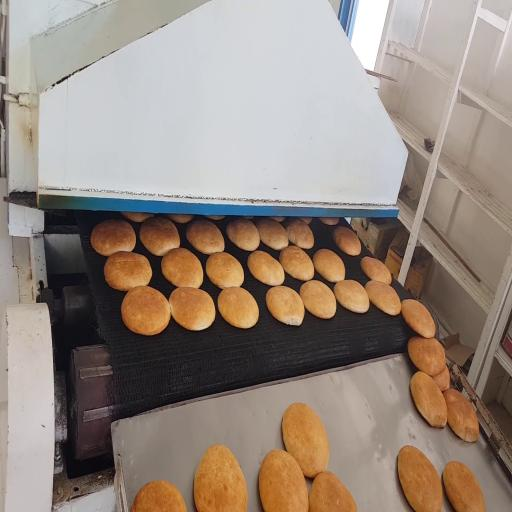bread: (194, 445, 247, 511), (282, 403, 329, 477), (259, 450, 308, 511), (398, 446, 442, 511), (122, 286, 170, 335), (443, 461, 485, 511), (410, 372, 447, 427), (169, 287, 215, 330), (443, 389, 479, 442), (104, 252, 152, 291), (309, 472, 357, 511), (130, 480, 186, 511), (218, 287, 258, 328), (91, 220, 136, 256), (162, 248, 203, 287), (139, 217, 180, 256), (266, 286, 304, 325), (408, 337, 445, 376), (300, 280, 336, 319), (206, 252, 243, 288), (186, 220, 224, 254), (402, 299, 435, 338), (279, 246, 314, 281), (365, 281, 401, 315), (248, 251, 284, 285), (334, 280, 369, 313), (226, 219, 259, 251), (313, 249, 345, 282), (256, 218, 288, 250), (286, 218, 314, 249), (361, 256, 391, 284), (332, 227, 361, 255), (433, 366, 450, 391), (122, 212, 154, 222), (166, 214, 193, 223), (319, 218, 338, 225), (299, 217, 312, 224), (269, 217, 285, 222), (206, 216, 225, 220), (244, 216, 254, 219)
